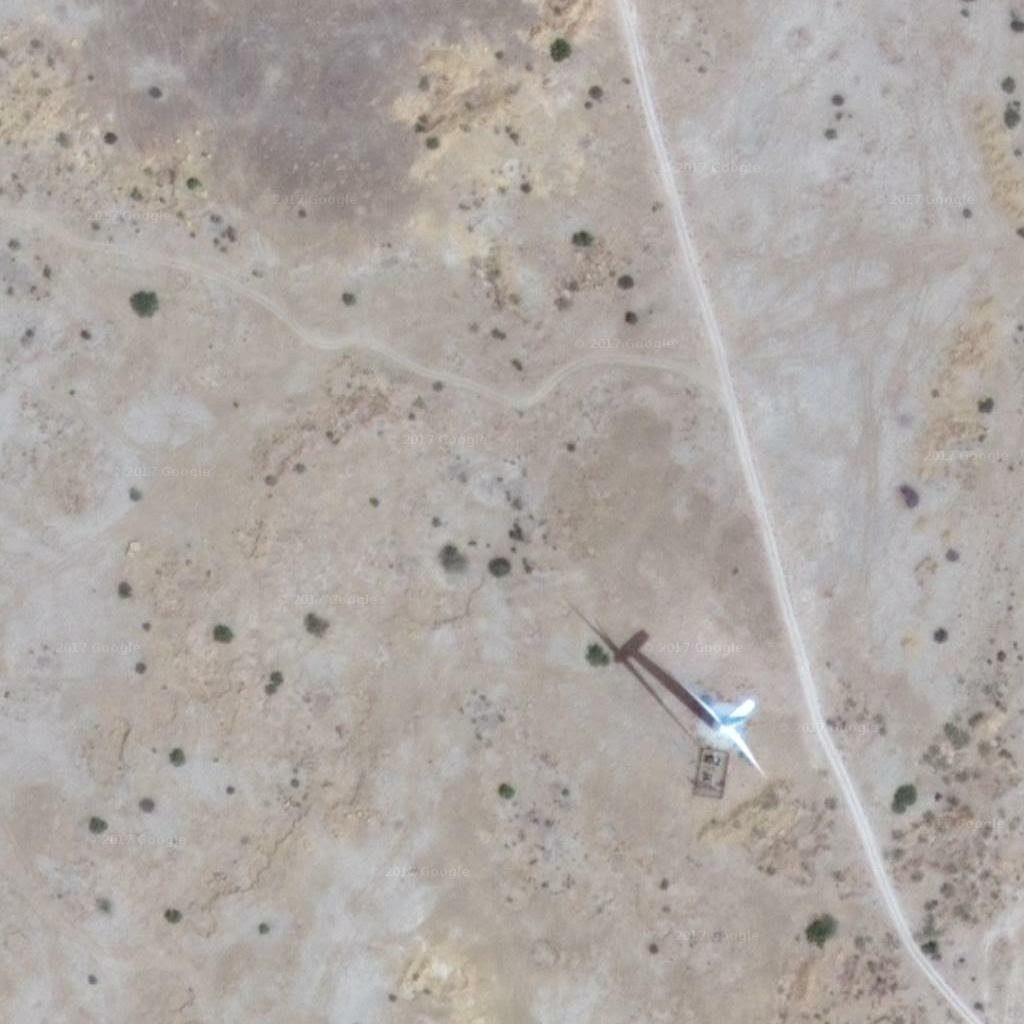Windmill: (557, 595, 712, 709)
